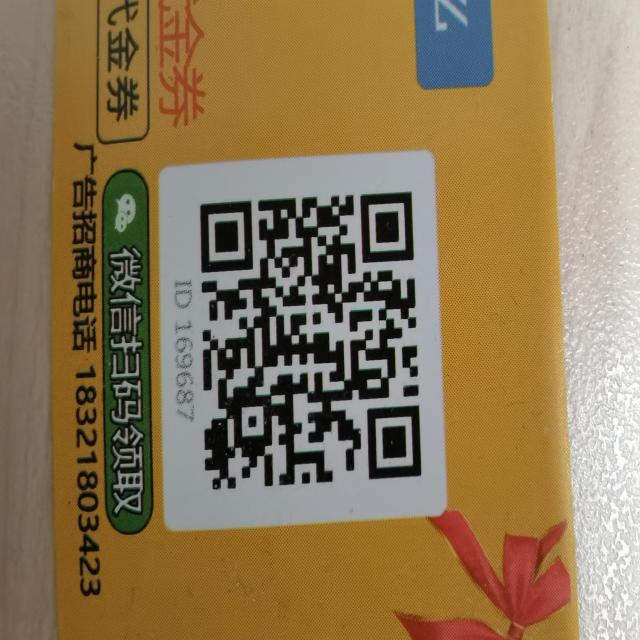qr_code: (198, 190, 422, 492)
